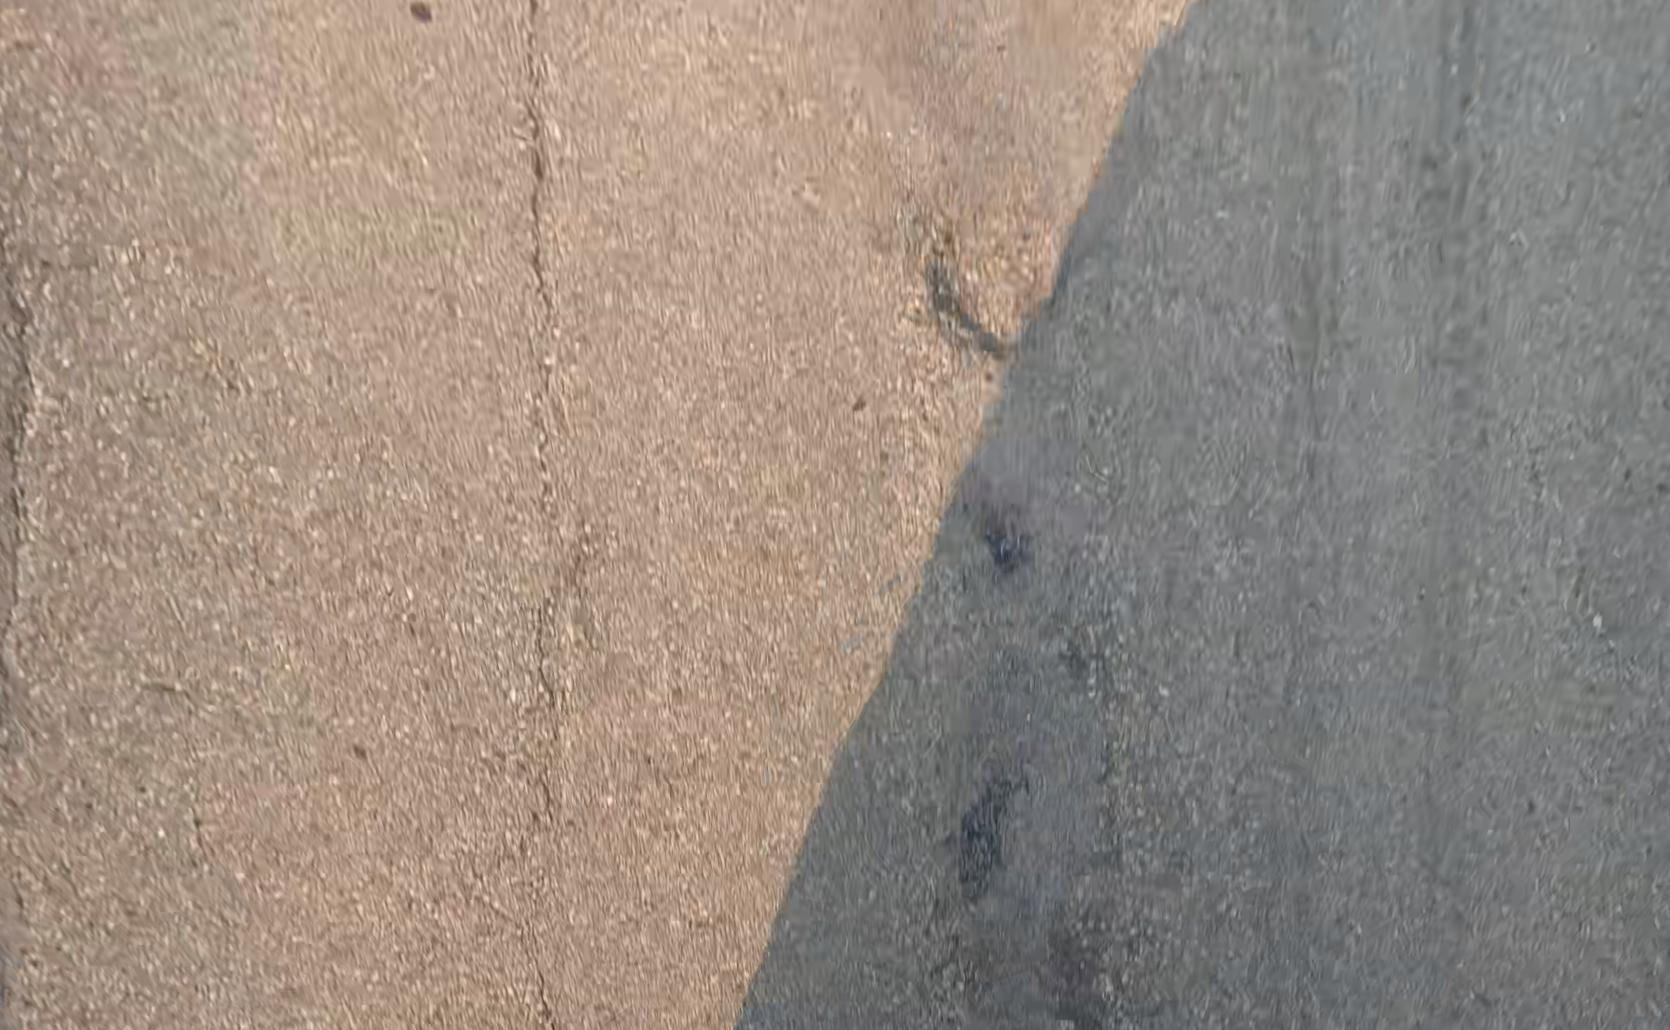pothole: (1045, 611, 1144, 1028), (921, 228, 1057, 356), (954, 779, 1028, 906), (975, 495, 1033, 574)
